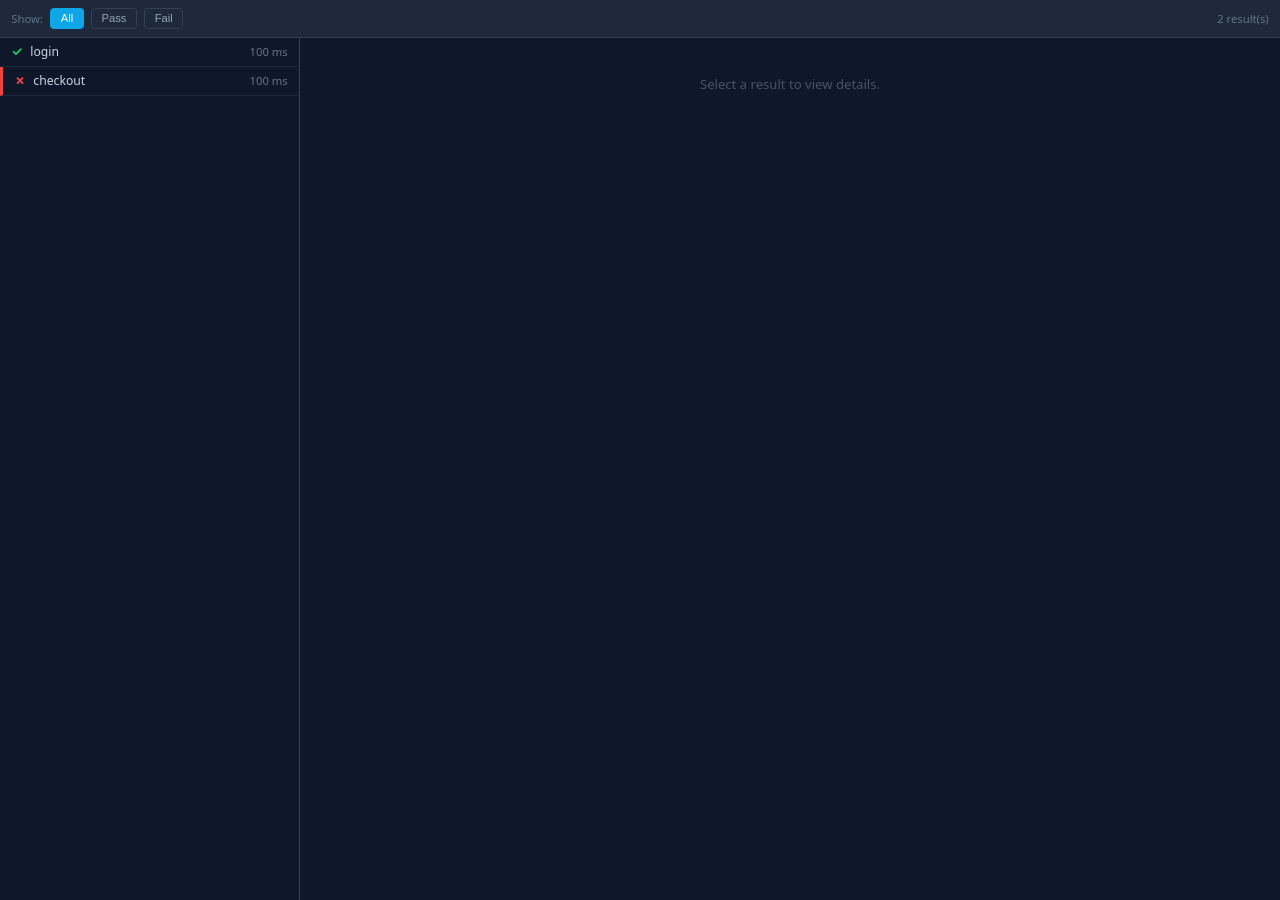
Test: ViewResultsTree — pass filter › shows only passing items when Pass filter is active
Click the button with test id "filter-pass" at (114, 18), box [91,8,137,29]
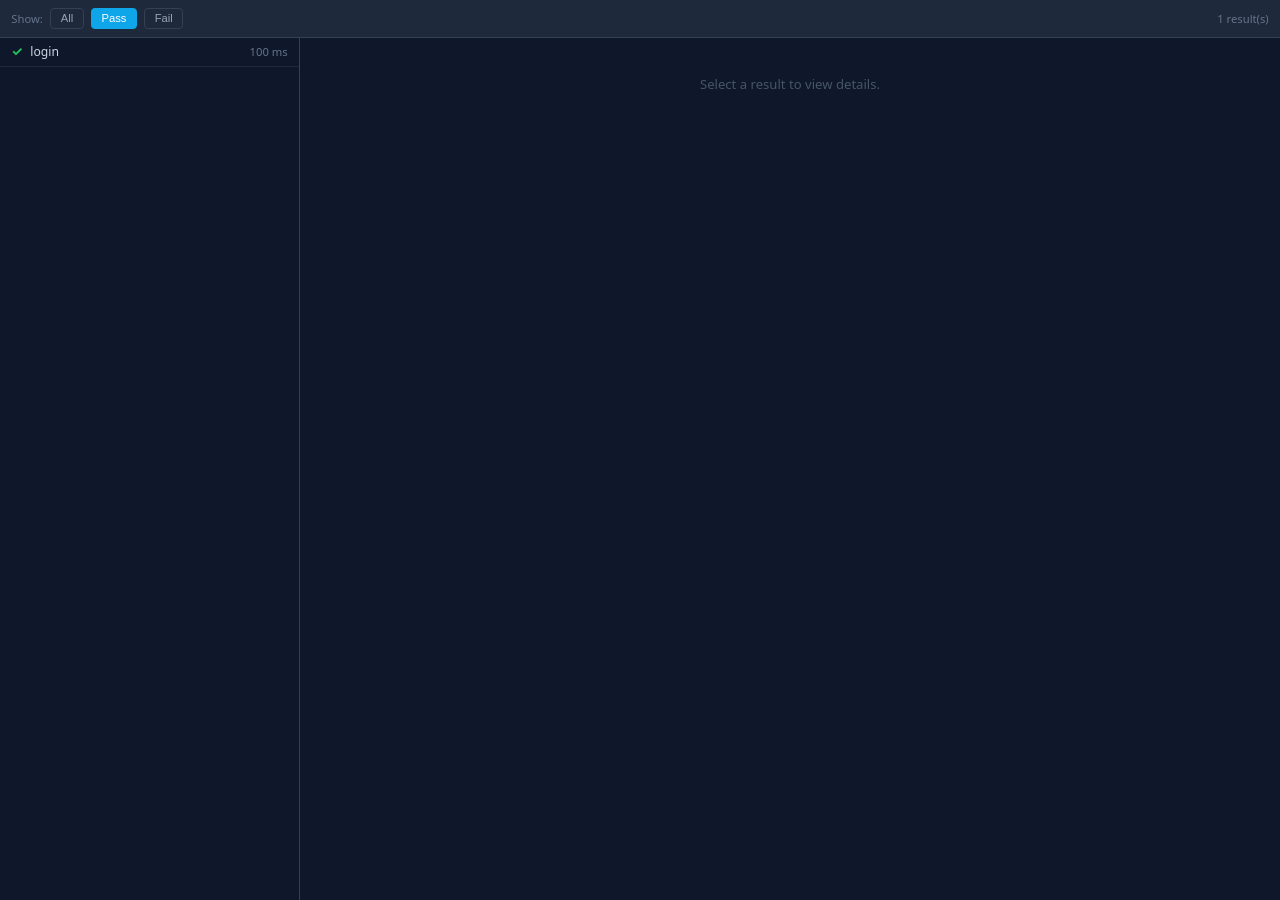
Expected: the text "login" is shown, [30,43,59,60]
Expected: the number of options is 1, [0,38,299,67]
